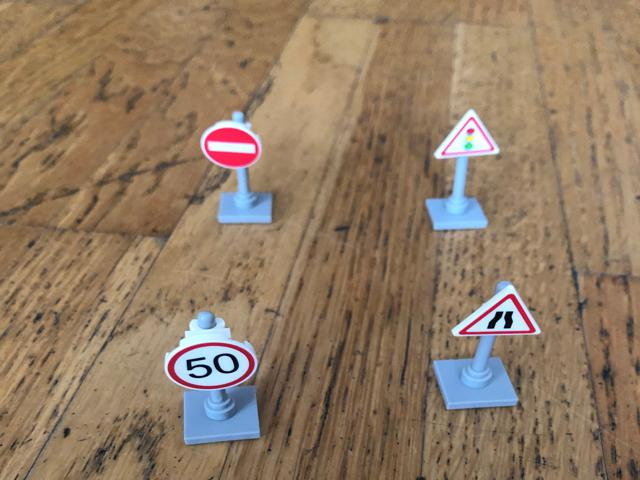lichtzeichenanlage: (431, 109, 498, 160)
tempolimit 50: (166, 340, 259, 391)
verbot der einfahrt: (199, 122, 264, 167)
verengte fahrbahn: (450, 284, 544, 336)
